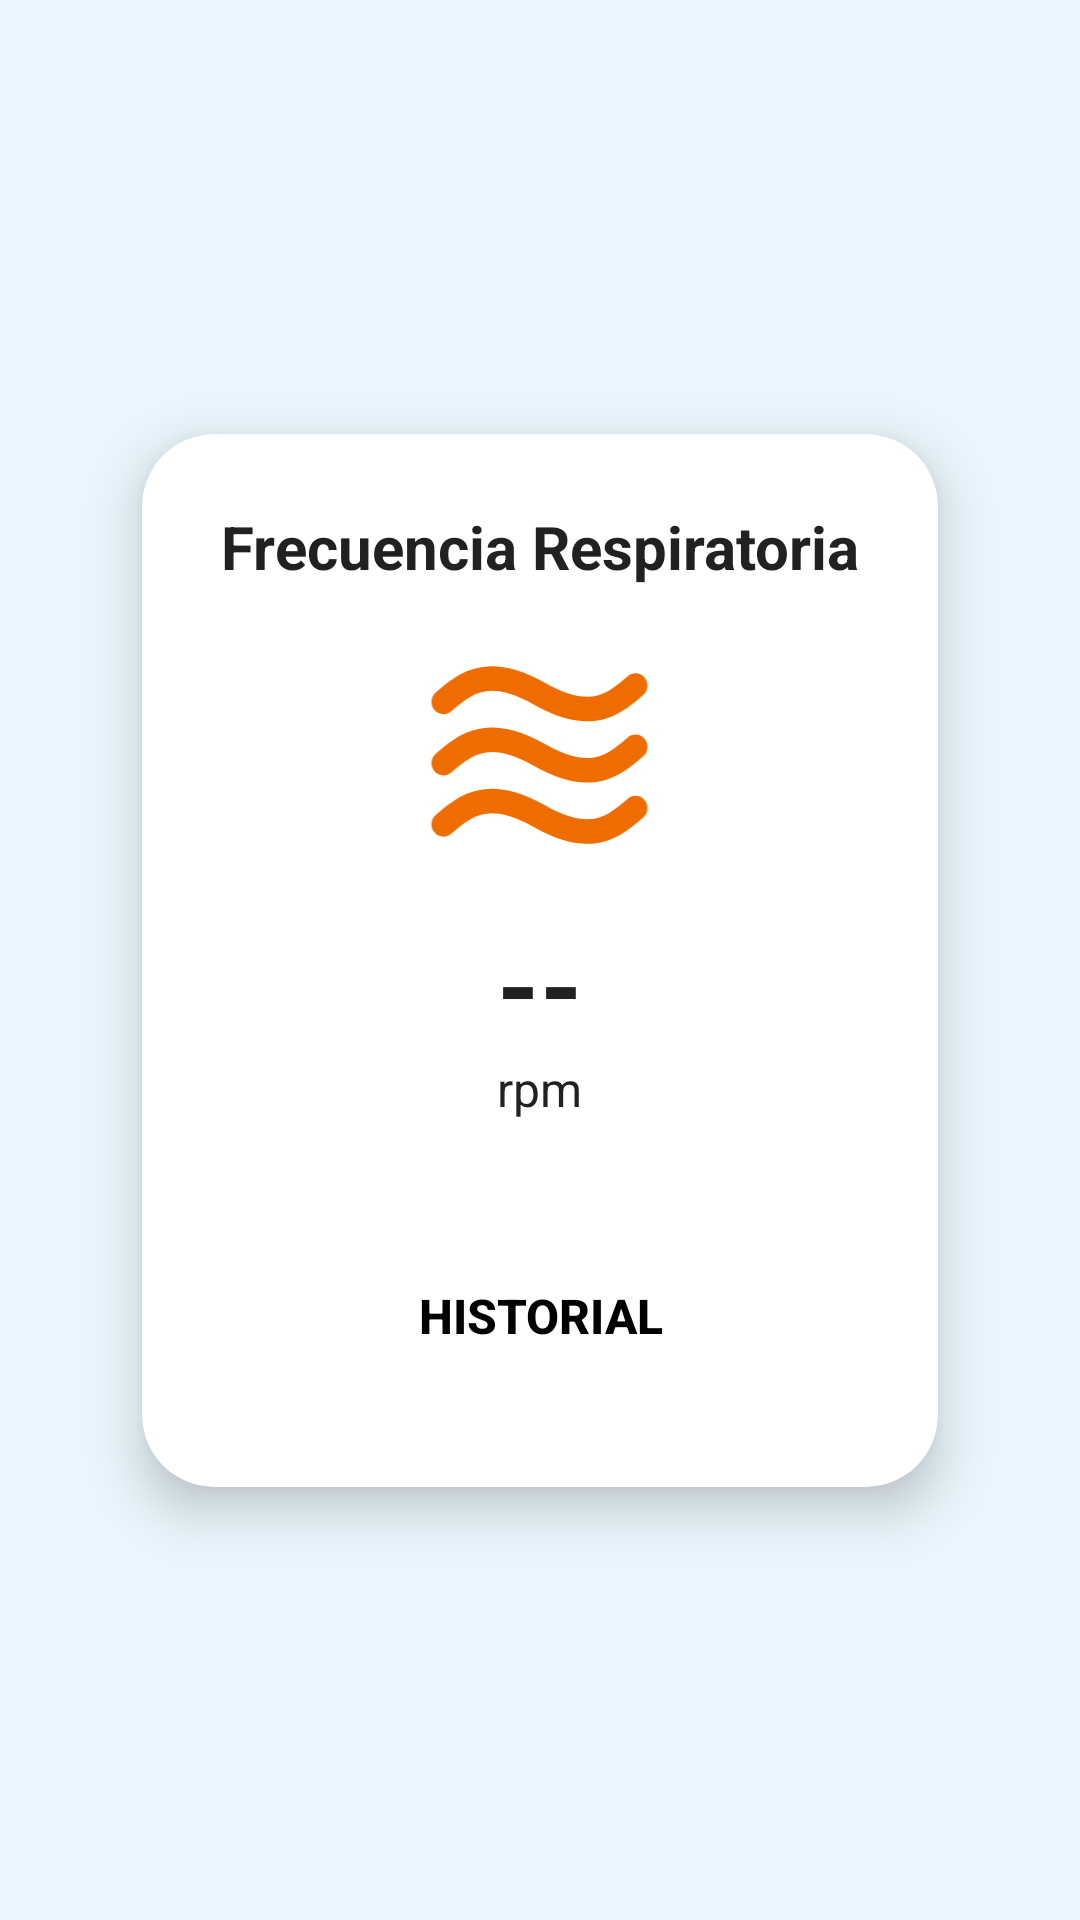

Icon bounding boxes for this 1080px x 1920px phone screenshot, format bbox=[x1, y1, x2, y2]:
air: bbox=[431, 666, 648, 844]
